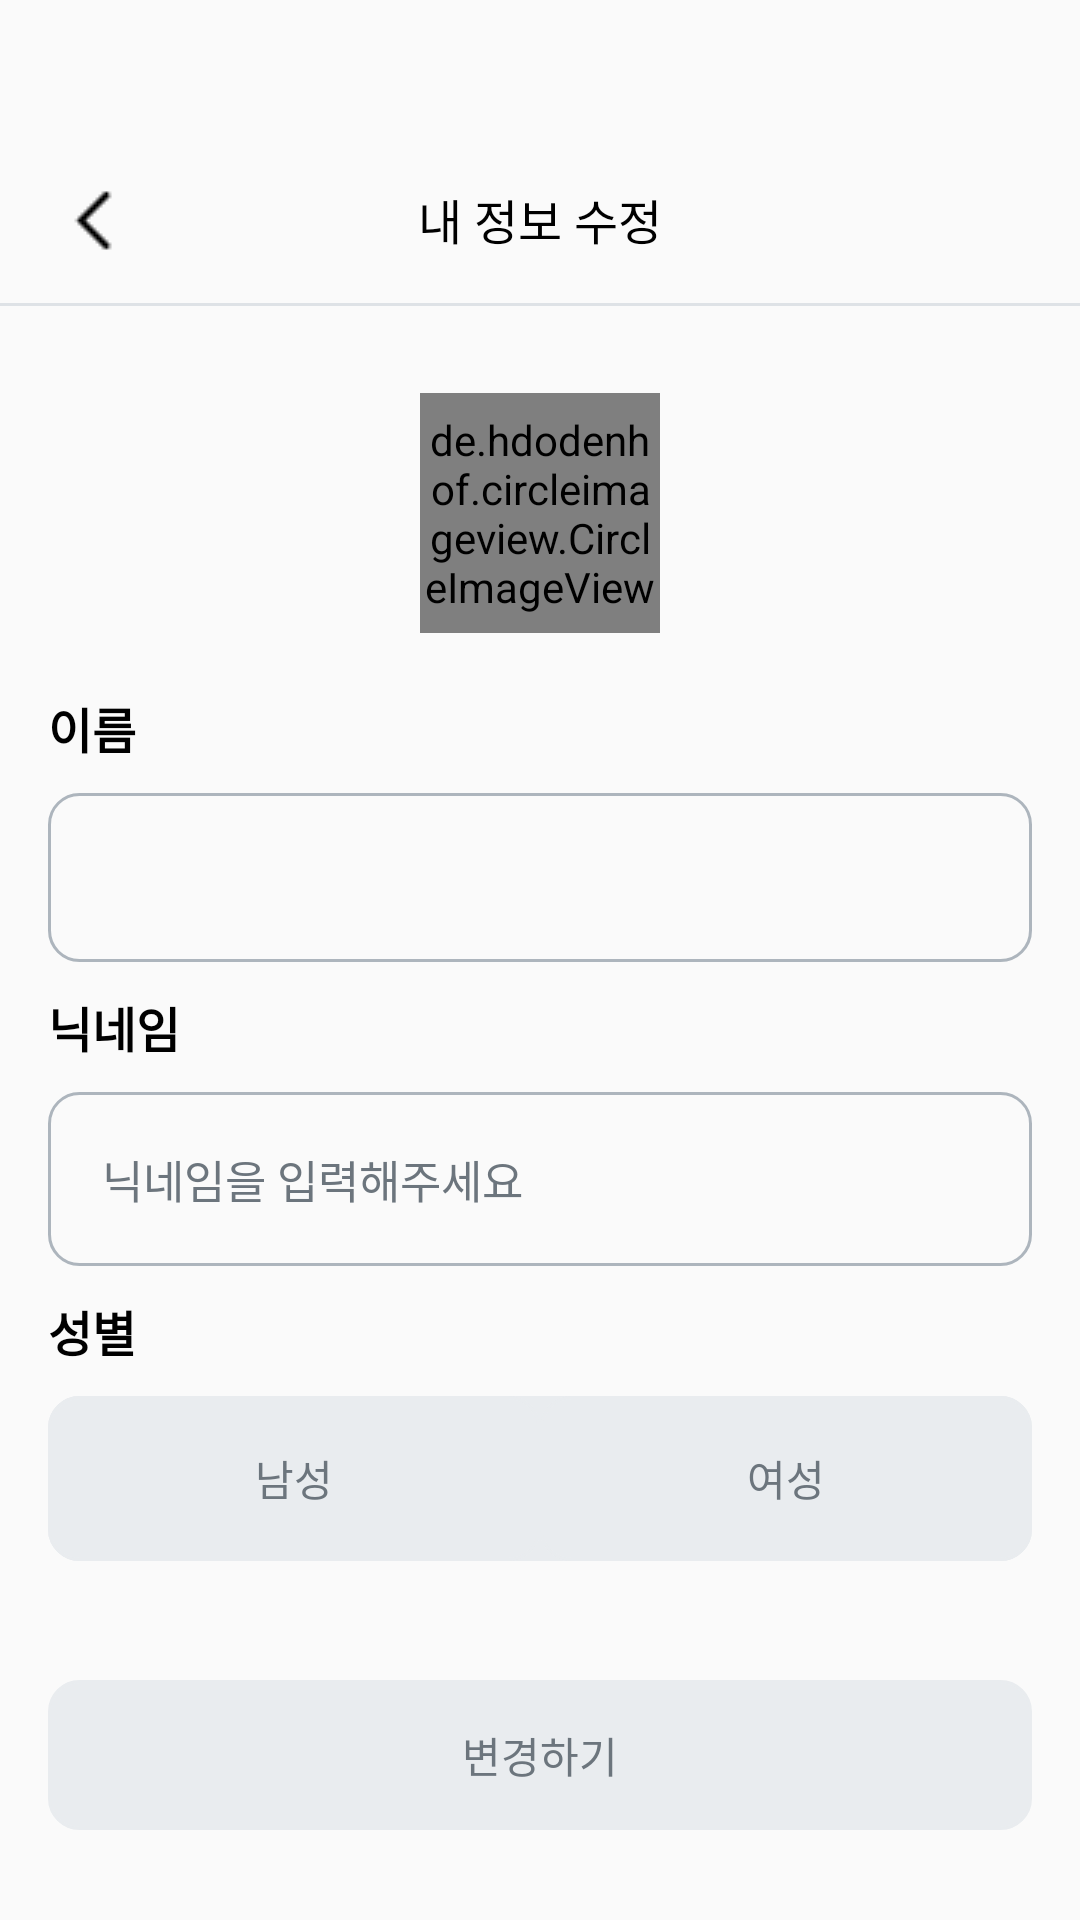

Icon click points for this 1080w x 1920h phone screenshot, format (x,y):
back usage: (93,220)
